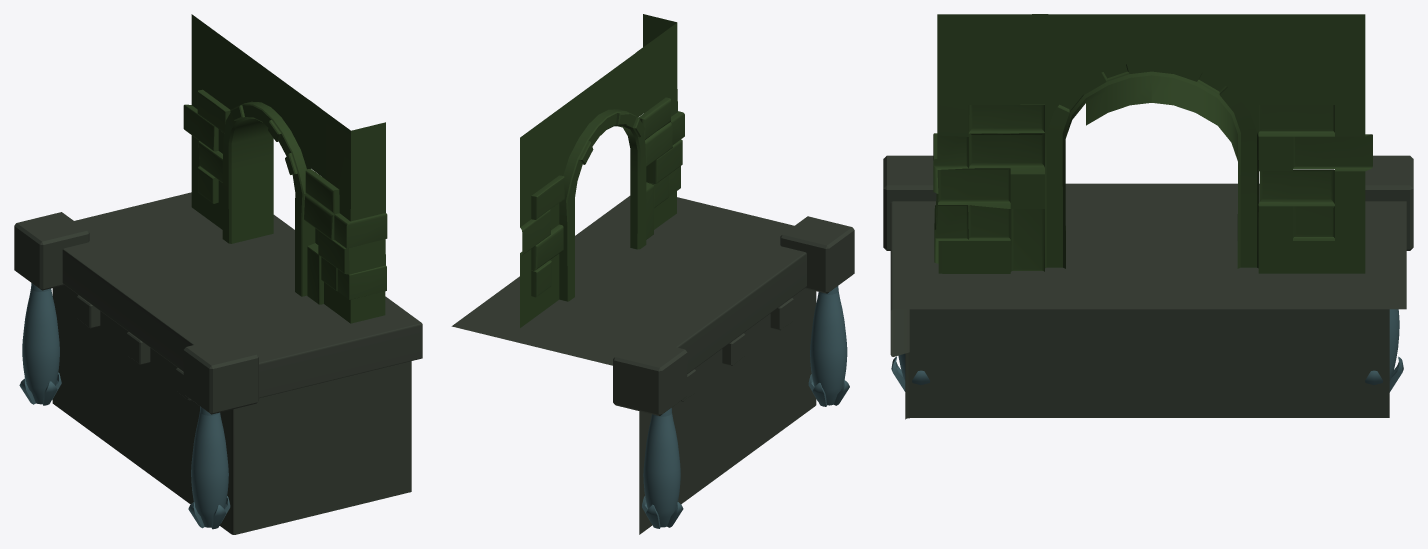
Rendered from Fortress.fbx.
3 views of the same model, side by side, from view 1: azimuth 30°, elevation 25°; view 2: azimuth 150°, elevation 25°; view 3: azimuth 270°, elevation 25° (orthographic). The views are drawn at different scales.
Visible parts, largest first — view 1: Fortress_Wall, Arch, Fortress_Corner5, Fortress_Corner, Fortress_Pillar1, Fortress_Pillar2, Fortress_Corner3, Fortress_Corner2; view 2: Fortress_Wall, Arch, Fortress_Corner, Fortress_Corner5, Fortress_Pillar2, Fortress_Pillar1, Fortress_Corner3, Fortress_Corner4; view 3: Fortress_Wall, Arch, Fortress_Corner5, Fortress_Corner, Fortress_Pillar1.
Boxes of the visible parts, bbox=[...] form: Fortress_Wall: bbox=[52, 192, 422, 534]; Arch: bbox=[183, 14, 387, 323]; Fortress_Corner5: bbox=[183, 336, 258, 414]; Fortress_Corner: bbox=[14, 212, 89, 290]; Fortress_Pillar1: bbox=[19, 283, 61, 405]; Fortress_Pillar2: bbox=[188, 406, 230, 529]; Fortress_Corner3: bbox=[126, 332, 150, 364]; Fortress_Corner2: bbox=[77, 295, 100, 328]; Fortress_Wall: bbox=[451, 196, 816, 534]; Arch: bbox=[520, 14, 684, 327]; Fortress_Corner: bbox=[613, 338, 687, 415]; Fortress_Corner5: bbox=[780, 216, 854, 293]; Fortress_Pillar2: bbox=[808, 286, 849, 406]; Fortress_Pillar1: bbox=[642, 408, 683, 528]; Fortress_Corner3: bbox=[722, 333, 745, 365]; Fortress_Corner4: bbox=[770, 298, 793, 330]; Fortress_Wall: bbox=[890, 183, 1406, 419]; Arch: bbox=[933, 14, 1372, 273]; Fortress_Corner5: bbox=[883, 155, 936, 250]; Fortress_Corner: bbox=[1365, 155, 1413, 250]; Fortress_Pillar1: bbox=[1365, 309, 1403, 392].
Bounding box in the file's own units: 5.58 × 8.81 × 8.65.
